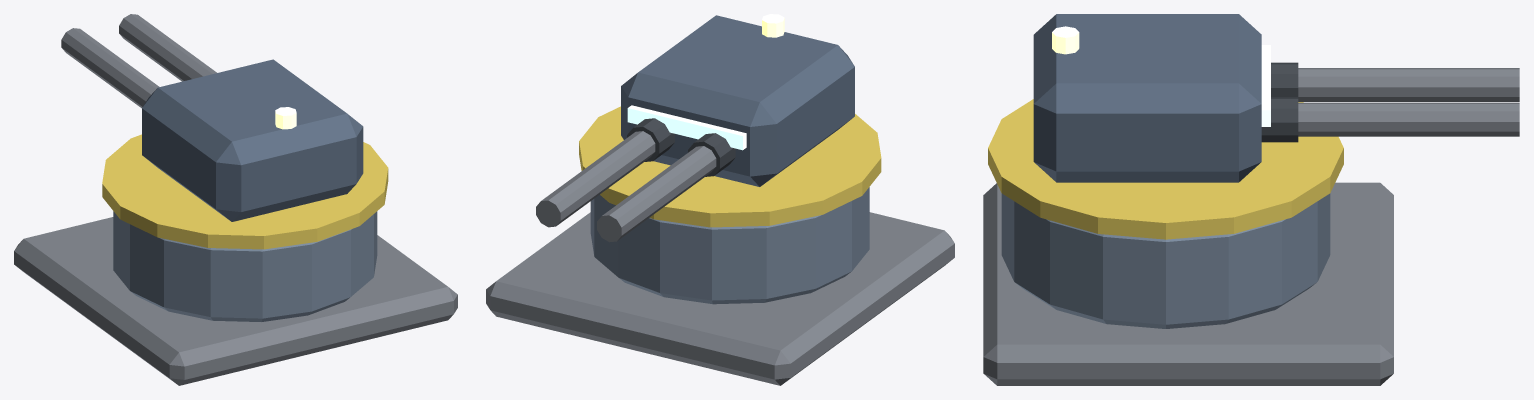
The model's file is turret.glb.
The picture shows the model from 3 angles, left to right: view 1: azimuth 30°, elevation 25°; view 2: azimuth 150°, elevation 25°; view 3: azimuth 270°, elevation 25°; orthographic projection. The views are drawn at different scales.
Parts seen in each view (by area): view 1: turret, detail; view 2: turret, detail; view 3: turret, detail.
Part boxes in pixels (x1,y1,x2,y2): turret: [14, 14, 457, 385]; detail: [275, 107, 296, 129]; turret: [486, 15, 954, 385]; detail: [627, 14, 784, 150]; turret: [983, 14, 1519, 385]; detail: [1052, 26, 1270, 126].
Size of the model in its own units: 9 by 6.6 by 11.75.
